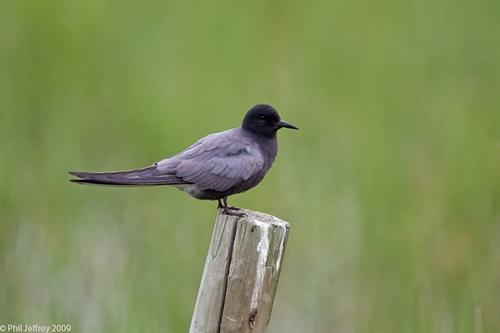bird: (66, 105, 300, 216)
